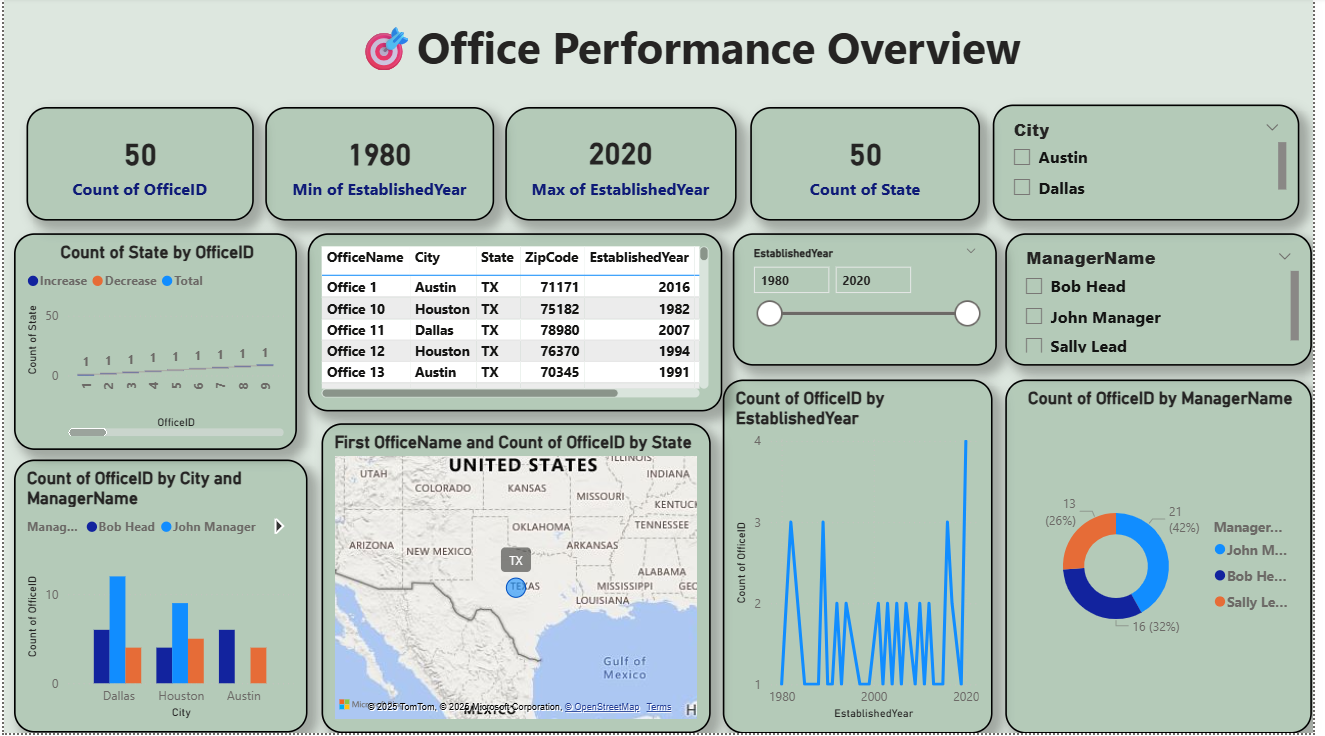

The page's visual inventory and layout, read from the dashboard file:
{"tool":"powerbi","page":{"name":"Page 7","canvas":[1280,720],"ordinal":6},"visuals":[{"type":"card","fields":{"Values":["Min(Offices.EstablishedYear)"]},"box":[255.4,108.2,223.6,111.1],"z":0},{"type":"card","fields":{"Values":["CountNonNull(Offices.OfficeID)"]},"box":[22,108.2,222.2,111.1],"z":1},{"type":"card","fields":{"Values":["CountNonNull(Offices.State)"]},"box":[730,108.2,225.1,111.1],"z":2},{"type":"card","fields":{"Values":["Max(Offices.EstablishedYear)"]},"box":[490.5,108.2,226.5,111.1],"z":3},{"type":"textbox","box":[197.7,14.4,943.6,77.9],"z":8},{"type":"slicer","fields":{"Values":["Offices.City"]},"box":[966.7,105.3,300.1,114],"z":9},{"type":"slicer","fields":{"Values":["Offices.ManagerName"]},"box":[979.6,230.8,300.1,129.8],"z":10},{"type":"slicer","fields":{"Values":["Offices.EstablishedYear"]},"box":[712.7,230.8,258.3,129.8],"z":11},{"type":"donutChart","fields":{"Category":["Offices.ManagerName"],"Y":["CountNonNull(Offices.OfficeID)"]},"box":[979.6,373.7,300.1,346.3],"z":12},{"type":"lineChart","fields":{"Category":["Offices.EstablishedYear"],"Y":["CountNonNull(Offices.OfficeID)"]},"box":[702.6,373.7,264,346.3],"z":13},{"type":"tableEx","fields":{"Values":["Offices.OfficeName","Offices.City","Offices.State","Offices.ZipCode","Offices.EstablishedYear","Offices.ManagerName"]},"box":[297.2,230.8,405.4,174.6],"z":15},{"type":"map","fields":{"Category":["Offices.State"],"Size":["CountNonNull(Offices.OfficeID)"],"X":["Min(Offices.OfficeName)"]},"box":[310.2,417,380.9,303],"z":16},{"type":"waterfallChart","fields":{"Category":["Offices.OfficeID"],"Y":["CountNonNull(Offices.State)"]},"box":[10.1,230.8,277,212.1],"z":17},{"type":"clusteredColumnChart","fields":{"Category":["Offices.City"],"Series":["Offices.ManagerName"],"Y":["CountNonNull(Offices.OfficeID)"]},"box":[10.1,453,287.1,266.9],"z":18}]}

Visuals, with their boxes in screenshot pixels (x1, y1, x2, y2), scaled from the page's 1280x720 canvas onto the 1325x736 screenshot:
card - Min(Offices.EstablishedYear): box(264, 111, 496, 224)
card - CountNonNull(Offices.OfficeID): box(23, 111, 253, 224)
card - CountNonNull(Offices.State): box(756, 111, 989, 224)
card - Max(Offices.EstablishedYear): box(508, 111, 742, 224)
textbox: box(205, 15, 1181, 94)
slicer - Offices.City: box(1001, 108, 1311, 224)
slicer - Offices.ManagerName: box(1014, 236, 1324, 369)
slicer - Offices.EstablishedYear: box(738, 236, 1005, 369)
donutChart - Offices.ManagerName x CountNonNull(Offices.OfficeID): box(1014, 382, 1324, 735)
lineChart - Offices.EstablishedYear x CountNonNull(Offices.OfficeID): box(727, 382, 1001, 735)
tableEx - Offices.OfficeName x Offices.City: box(308, 236, 727, 414)
map - Offices.State x CountNonNull(Offices.OfficeID): box(321, 426, 715, 735)
waterfallChart - Offices.OfficeID x CountNonNull(Offices.State): box(10, 236, 297, 453)
clusteredColumnChart - Offices.City x Offices.ManagerName: box(10, 463, 308, 735)
